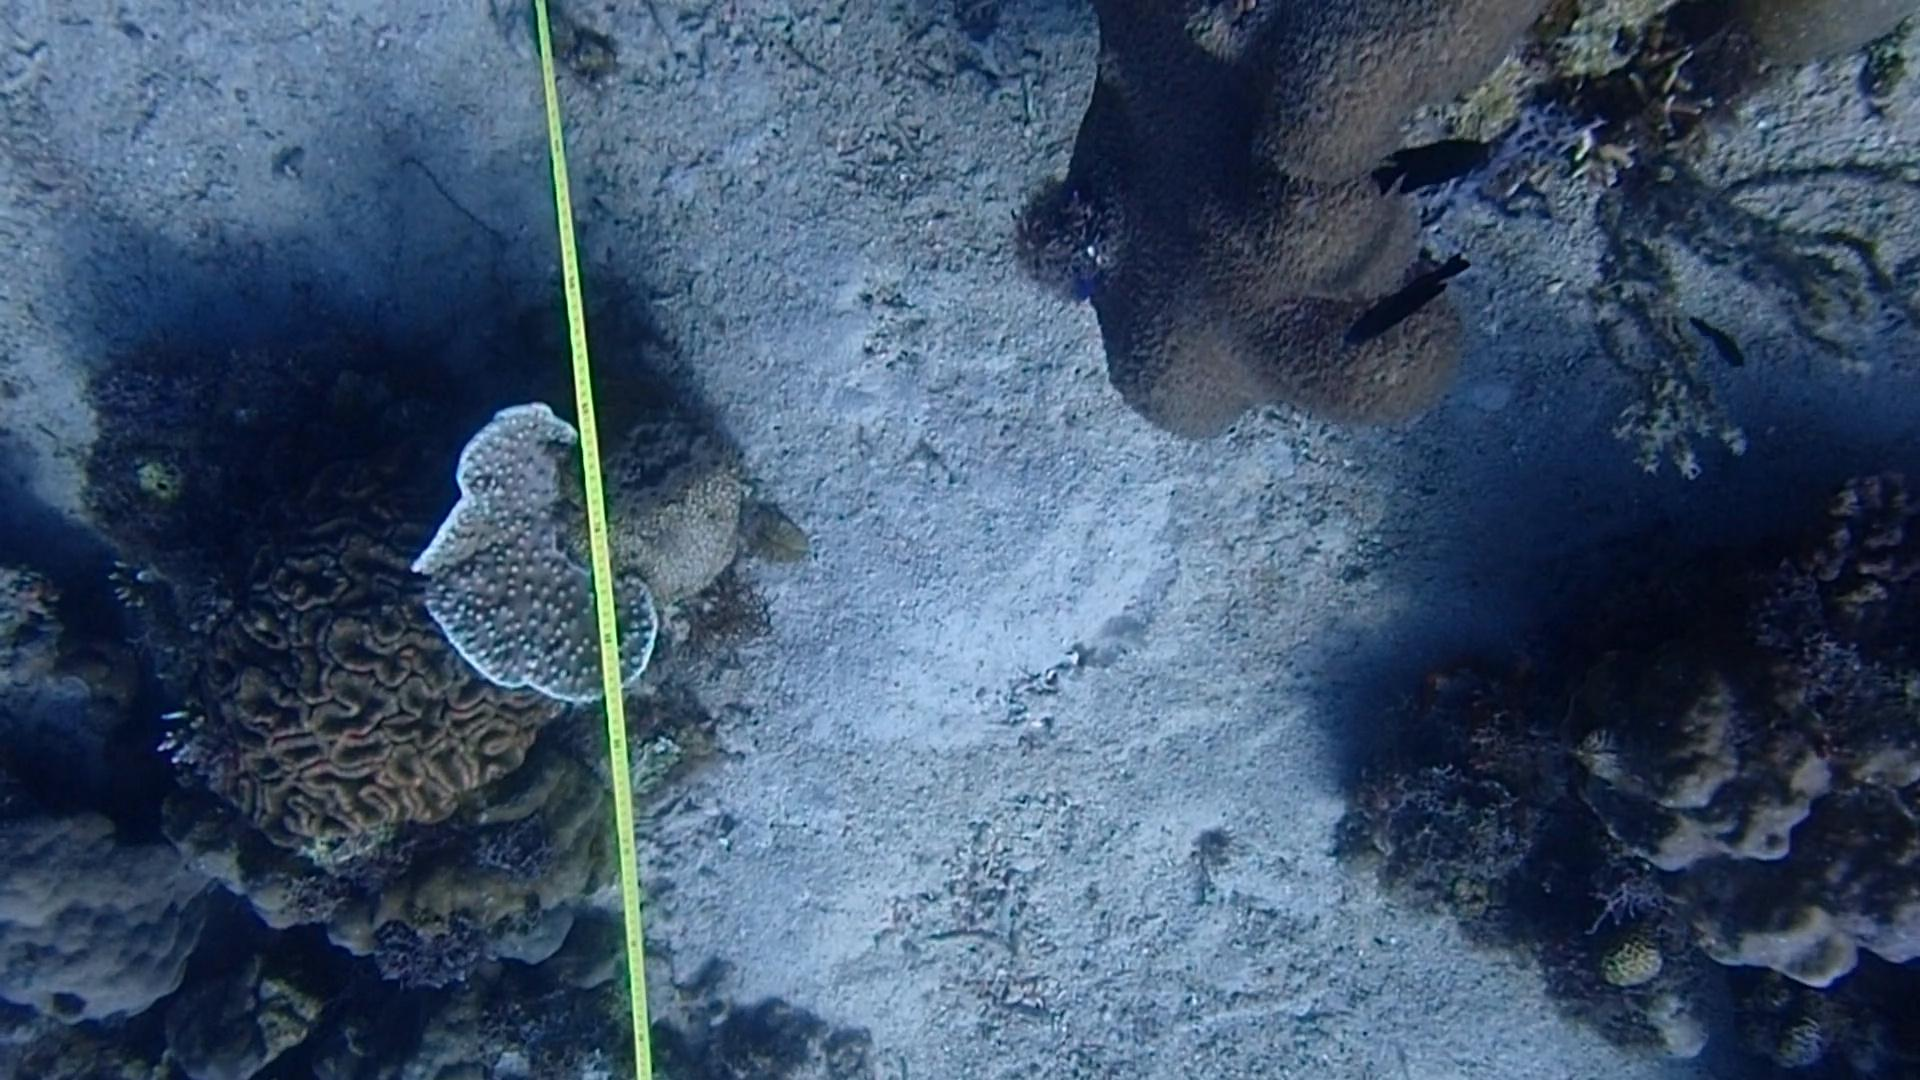Dark Fish: (1342, 248, 1481, 351), (1360, 127, 1513, 216), (1685, 302, 1759, 382)
